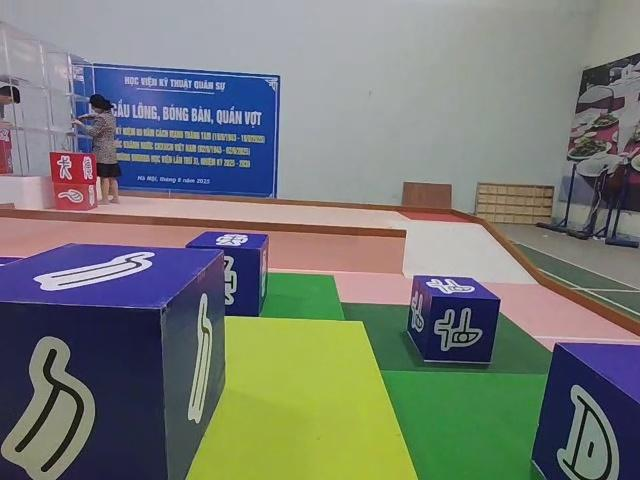R2 Real Blue: (2, 241, 226, 479), (530, 341, 638, 479), (407, 276, 500, 365)
